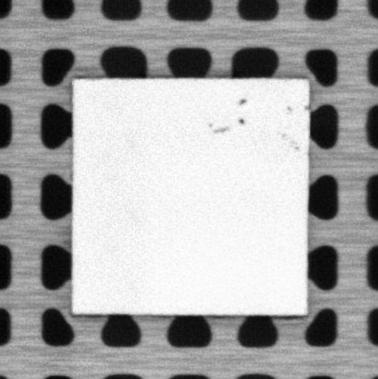DIE_INK: (208, 120, 231, 134), (239, 96, 248, 105), (236, 115, 245, 124), (284, 103, 293, 112)
